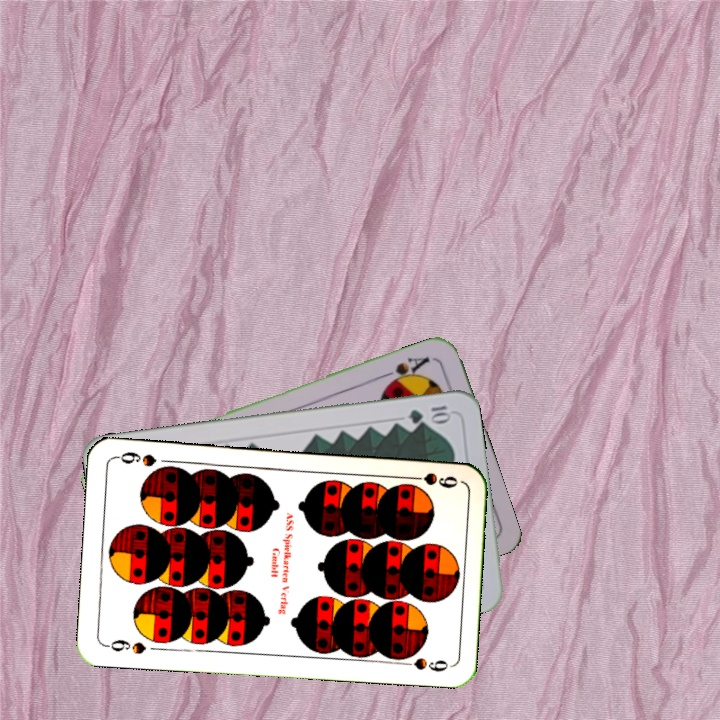G10: (404, 401, 454, 426)
S9: (402, 468, 461, 491), (101, 635, 148, 657)
SA: (378, 353, 433, 389)
